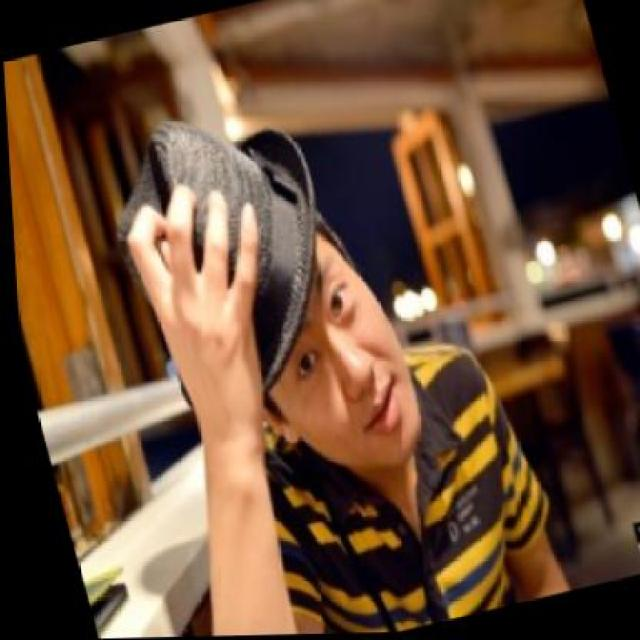hat: (85, 91, 364, 420)
